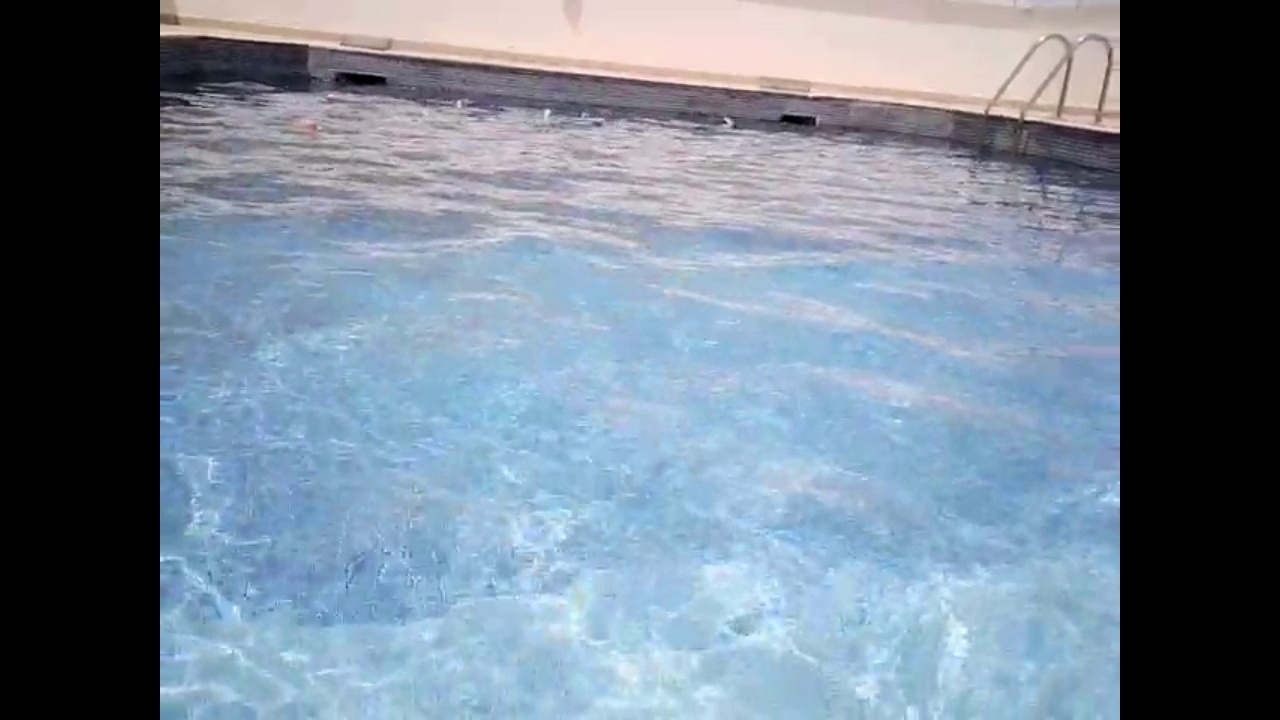debris: (585, 114, 607, 129)
